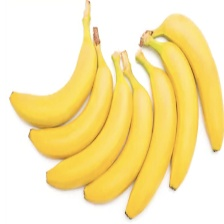banana: (27, 29, 193, 179)
